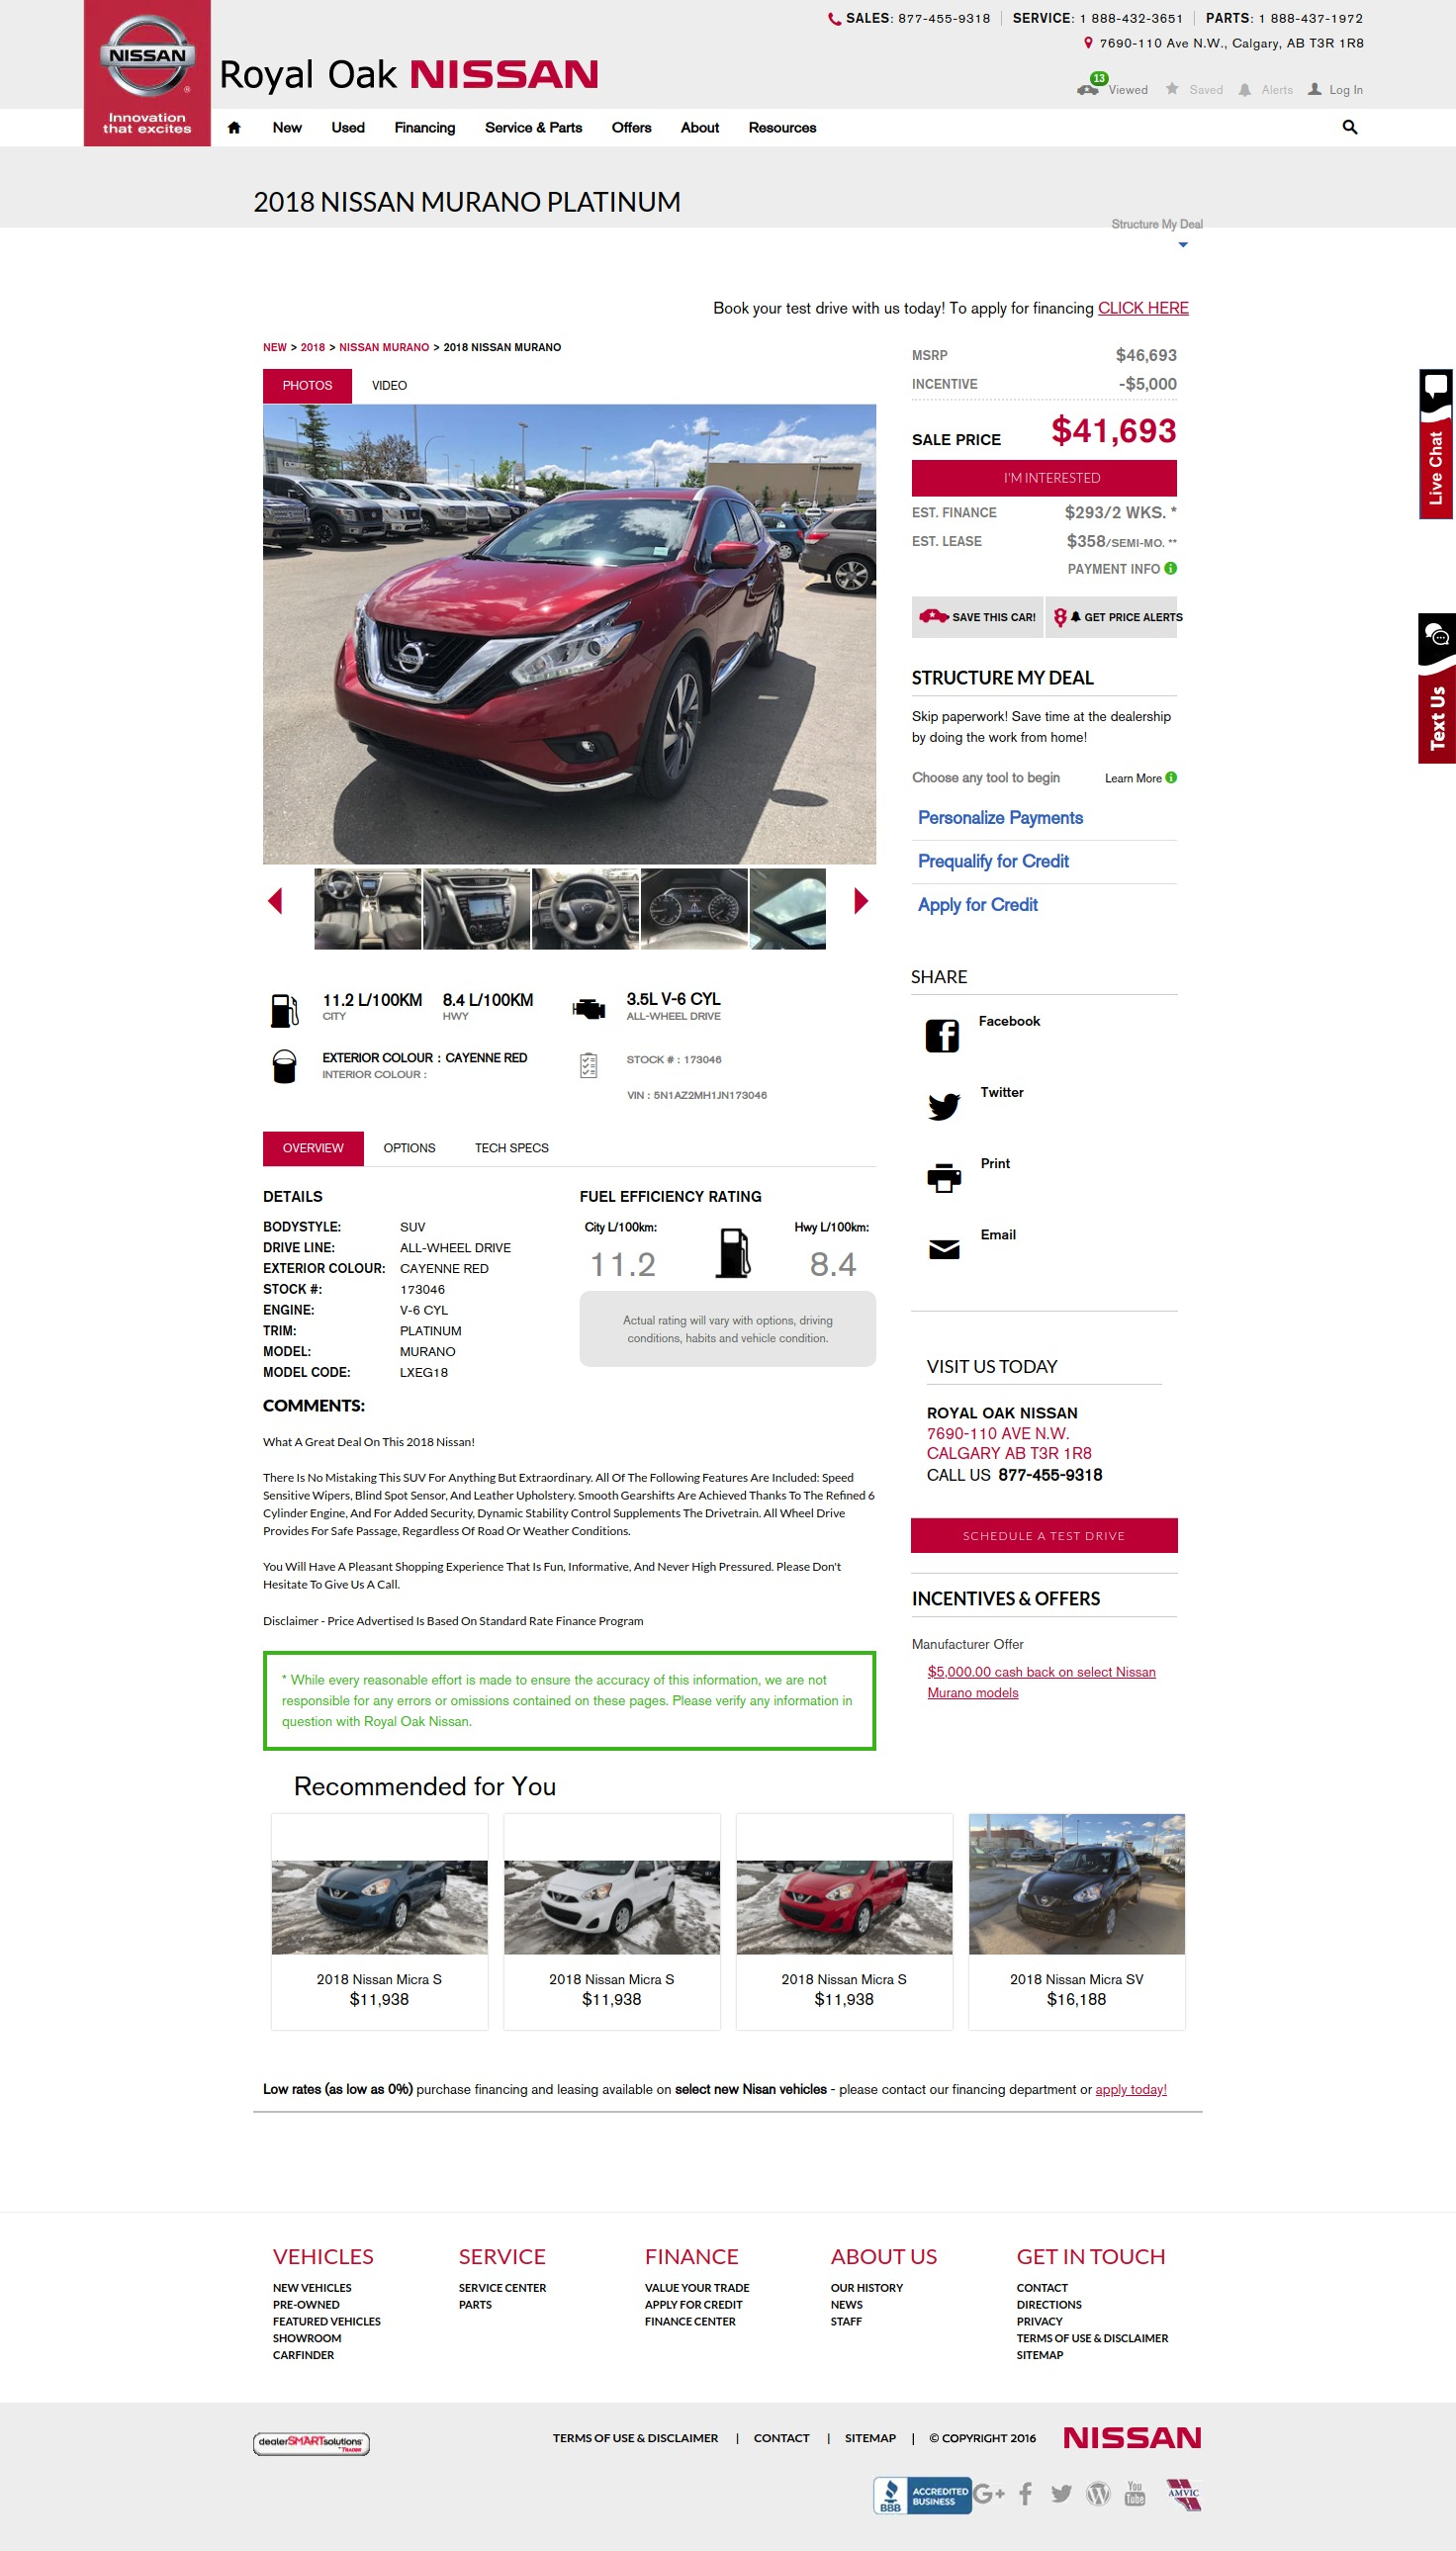car: (855, 887, 869, 916)
